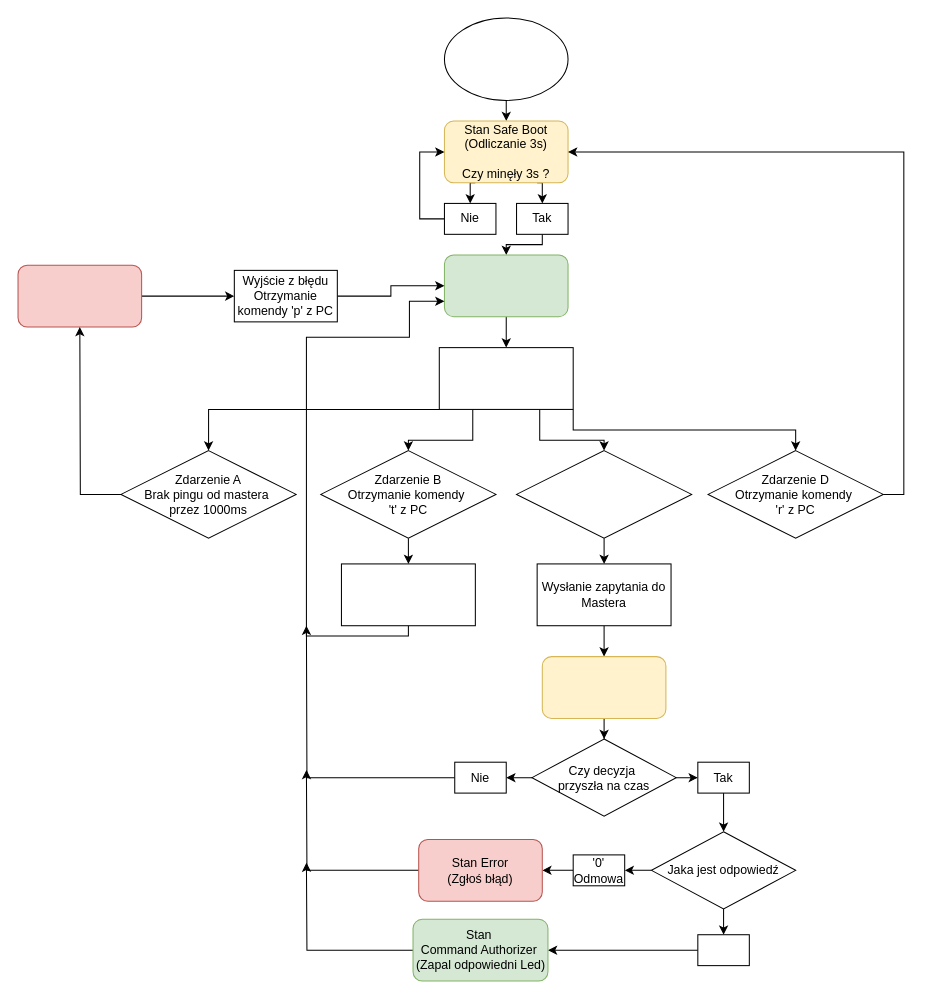
Image size: 930x999. Some labels were removed from this diagram. The shapes that lost their labels are listed below. From the top down, each one's centre as x and y in pixels, then its label:
At [505,58]: "Start".
At [79,295]: "Stan Safety Pernament (Pełna blokada)".
At [505,285]: "Stan Idle".
At [505,378]: "Uruchomienie komunikacji oraz watchdoga".
At [604,494]: "Zdarzenie C Otrzymanie komendy '1-8' z PC".
At [407,594]: "Sekwencja testowa Zapalenie ledów od 1 do 8".
At [603,687]: "Stan Waiting Master Auth".
At [723,950]: "'1' Zgoda".
